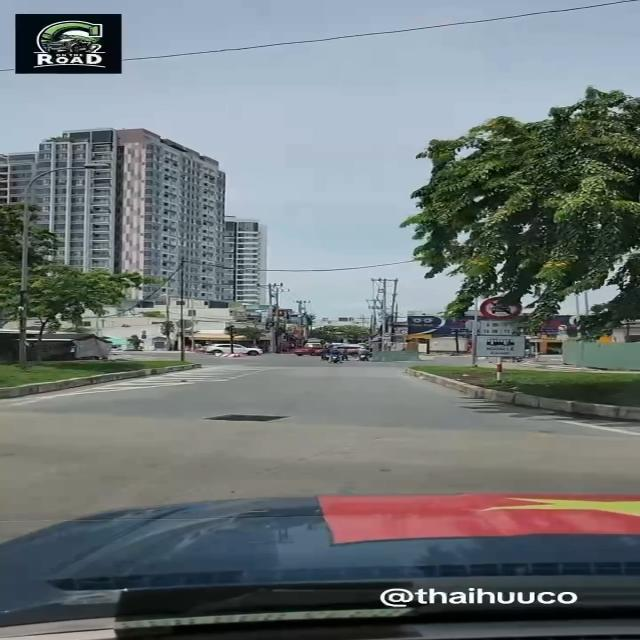103a-cam-oto: (480, 296, 525, 320)
